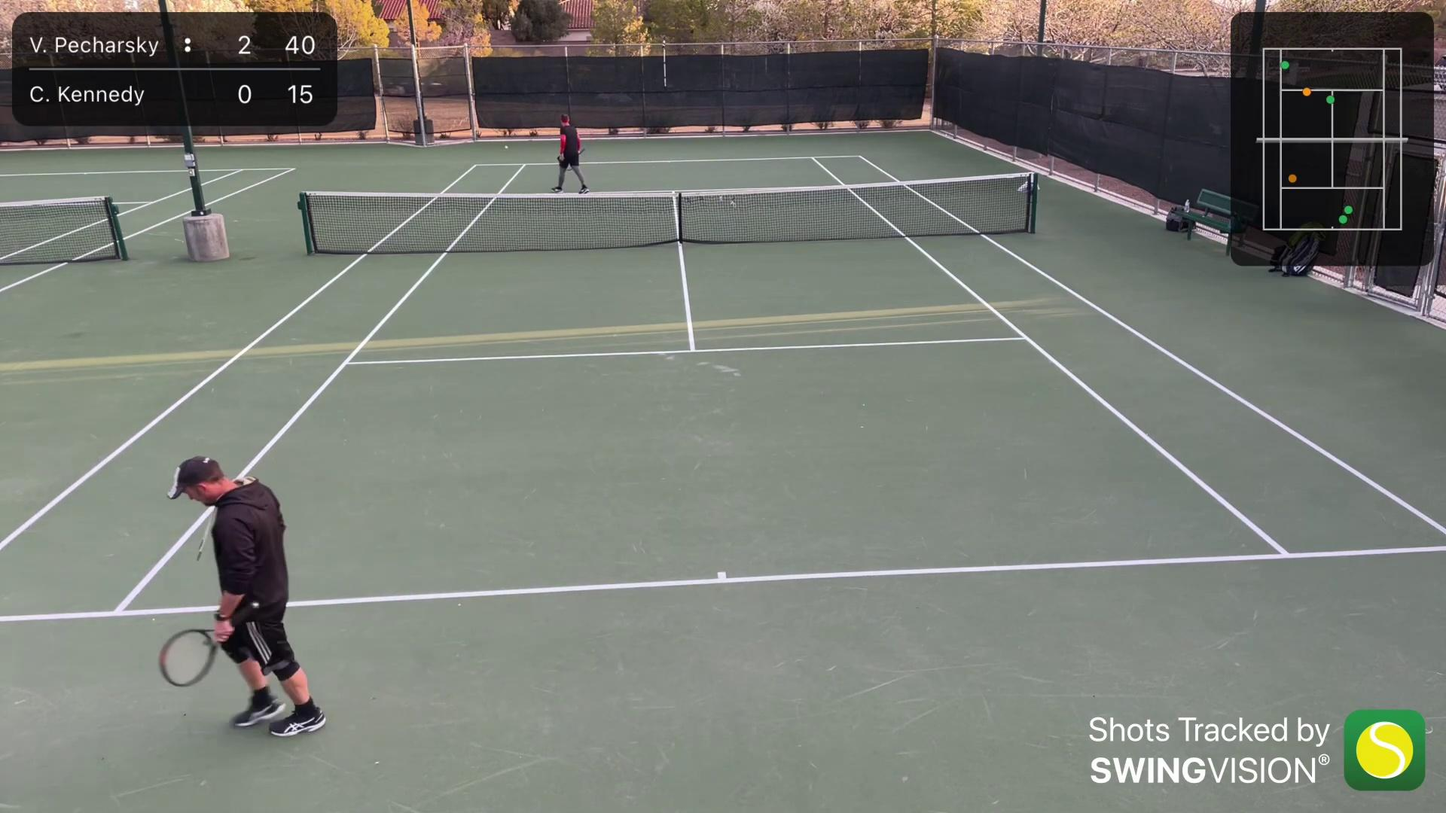ball: (504, 145, 509, 149)
